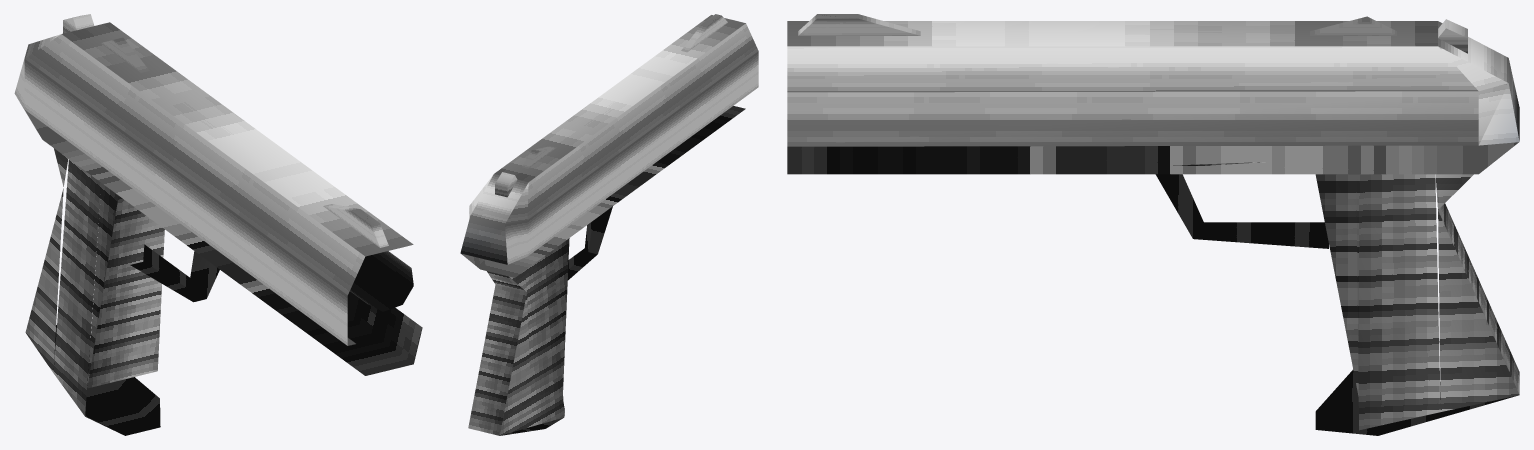
The model's file is gun_handless.glb.
The picture shows the model from 3 angles, left to right: view 1: azimuth 30°, elevation 25°; view 2: azimuth 150°, elevation 25°; view 3: azimuth 270°, elevation 25°; orthographic projection. The views are drawn at different scales.
Visible parts, largest first — view 1: m6, m11, m5, m7, m4; view 2: m6, m11, m5, m7; view 3: m6, m11, m5, m7.
Part boxes in pixels (x1=…): m6: x1=14, y1=14, x2=413, y2=345; m11: x1=25, y1=148, x2=164, y2=415; m5: x1=20, y1=103, x2=422, y2=375; m7: x1=53, y1=244, x2=219, y2=435; m4: x1=350, y1=251, x2=413, y2=311; m6: x1=460, y1=14, x2=758, y2=264; m11: x1=468, y1=238, x2=569, y2=435; m5: x1=461, y1=106, x2=745, y2=277; m7: x1=501, y1=206, x2=612, y2=435; m6: x1=787, y1=14, x2=1519, y2=146; m11: x1=1315, y1=174, x2=1519, y2=430; m5: x1=787, y1=142, x2=1518, y2=174; m7: x1=1155, y1=174, x2=1517, y2=435.
Bounding box in the file's own units: 45 × 166 × 269.
5 materials, 5 textured.
